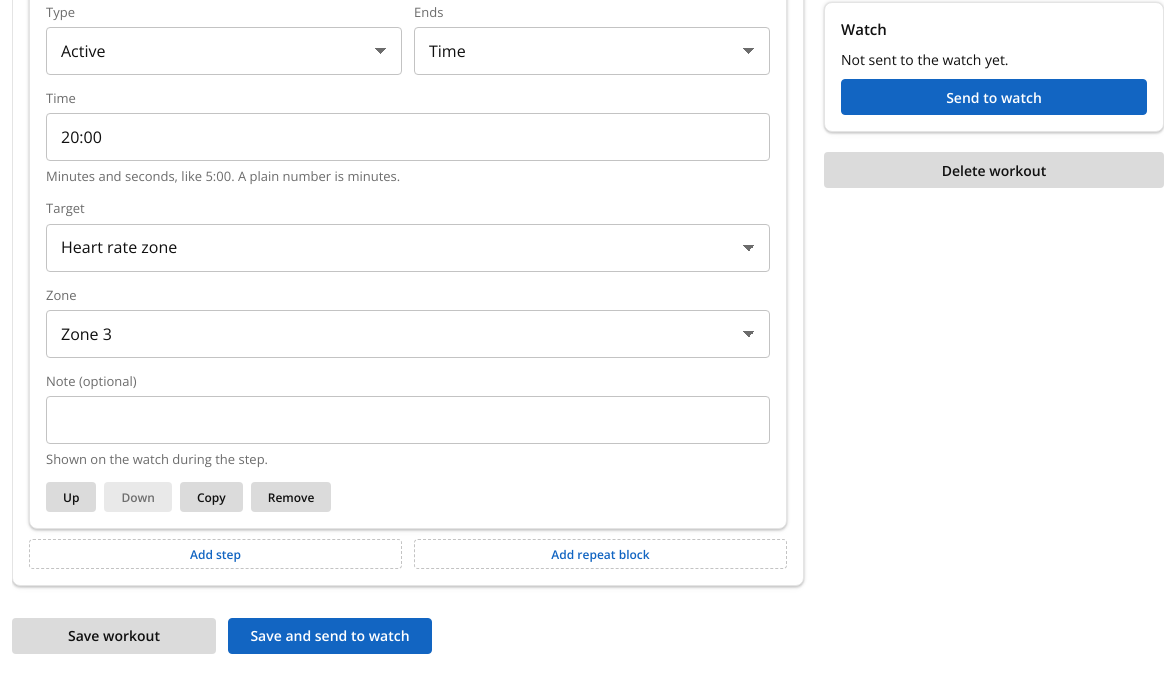
Test: a saved workout › saves and sends in one go
(page scrolled)
Click the button "Save and send to watch" at x=330, y=636, box x1=228 y1=618 x2=432 y2=654
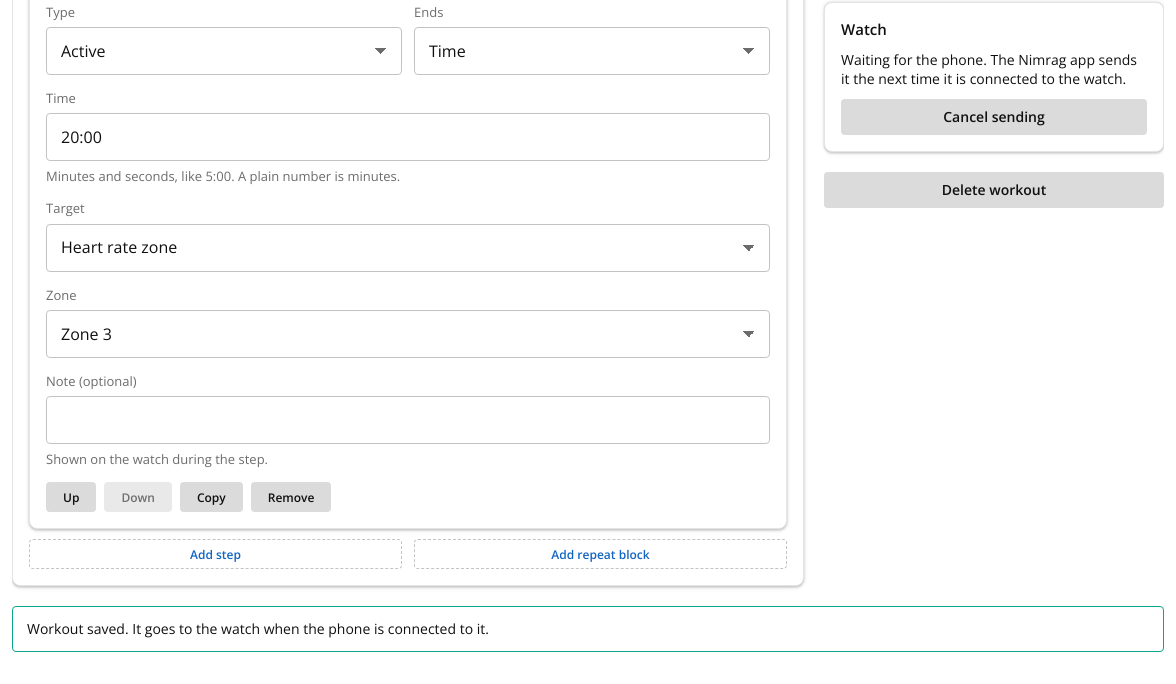
Expected: the text "Workout saved. It goes to the watch when the phone is connected to it." is shown, x1=12 y1=606 x2=1164 y2=652
